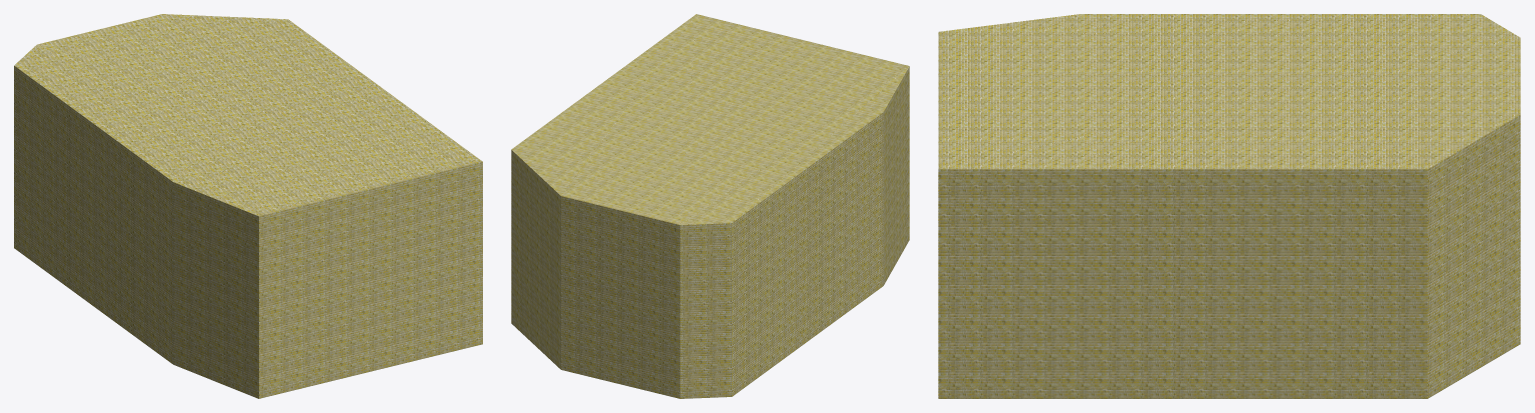
The model's file is next_simple.glb.
3 renders of one model, left to right at view 1: azimuth 30°, elevation 25°; view 2: azimuth 150°, elevation 25°; view 3: azimuth 270°, elevation 25°, orthographic. The views are drawn at different scales.
Parts seen in each view (by area): view 1: root; view 2: root; view 3: root.
Part boxes in pixels (x1,y1,x2,y2): root: (14, 14, 482, 398); root: (511, 14, 909, 398); root: (938, 14, 1520, 398).
Bounding box in the file's own units: 22.86 × 15.76 × 36.21.
Materials: 1 (1 with a texture image).
